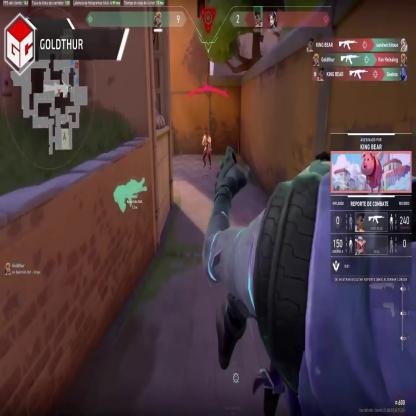enemy: (202, 130, 212, 171)
enemy_head: (205, 131, 208, 138)
